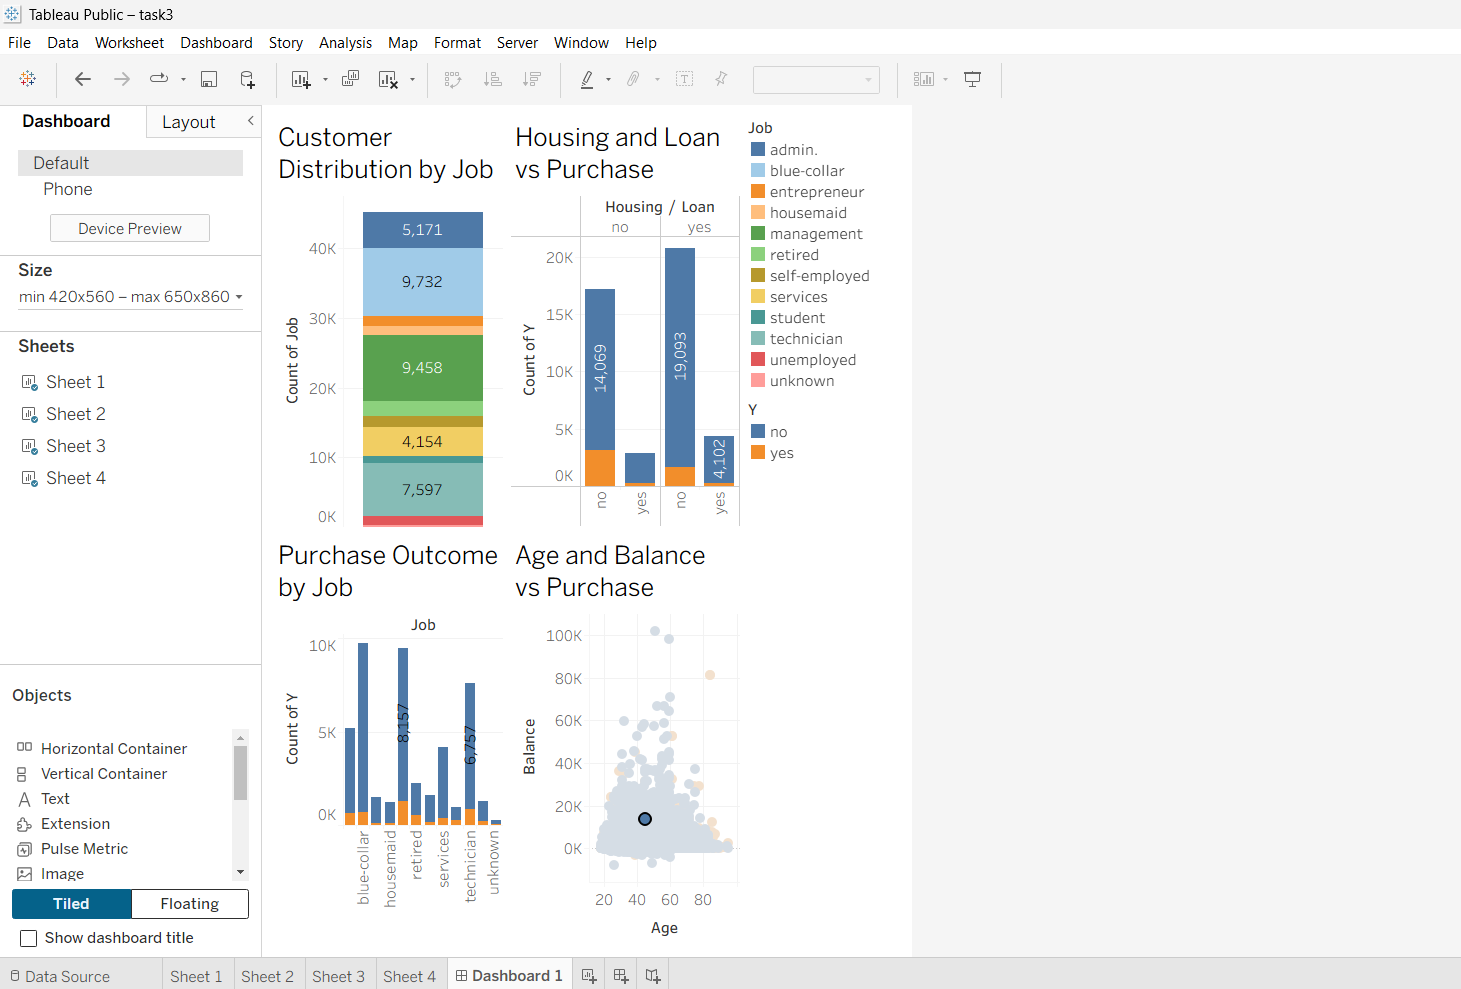

The dashboard page shown, as its layout file describes it:
{"tool":"tableau","page":{"name":"Dashboard 1","canvas":[650,860],"ordinal":0},"visuals":[{"type":"worksheet","title":"Sheet 1","mark":"Automatic","rows":["job"],"box":[8,8.1,237,421.9]},{"type":"worksheet","title":"Sheet 3","mark":"Automatic","rows":["y"],"cols":["housing","loan"],"box":[245,8.1,237,421.9]},{"type":"legend","title":"Sheet 1","param":"[federated.1j0frew1hiz5tk10d575s1h40yn4].[none:job:nk]","box":[482,8.1,160,284.7]},{"type":"legend","title":"Sheet 2","param":"[federated.1j0frew1hiz5tk10d575s1h40yn4].[none:y:nk]","box":[482,292.7,160,72.7]},{"type":"worksheet","title":"Sheet 2","mark":"Automatic","rows":["y"],"cols":["job"],"box":[8,430,237,421.9]},{"type":"worksheet","title":"Sheet 4","mark":"Circle","rows":["balance"],"cols":["age"],"box":[245,430,237,421.9]}]}

Visuals, with their boxes on the page's 650x860 design canvas (x1, y1, x2, y2). These are canvas units, not pixel positions in the 1461x989 screenshot, which may show the page scaled, cropped or inside an application window:
"Sheet 1" worksheet: left=8, top=8, right=245, bottom=430
"Sheet 3" worksheet: left=245, top=8, right=482, bottom=430
"Sheet 1" legend: left=482, top=8, right=642, bottom=293
"Sheet 2" legend: left=482, top=293, right=642, bottom=365
"Sheet 2" worksheet: left=8, top=430, right=245, bottom=852
"Sheet 4" worksheet (Circle marks): left=245, top=430, right=482, bottom=852
